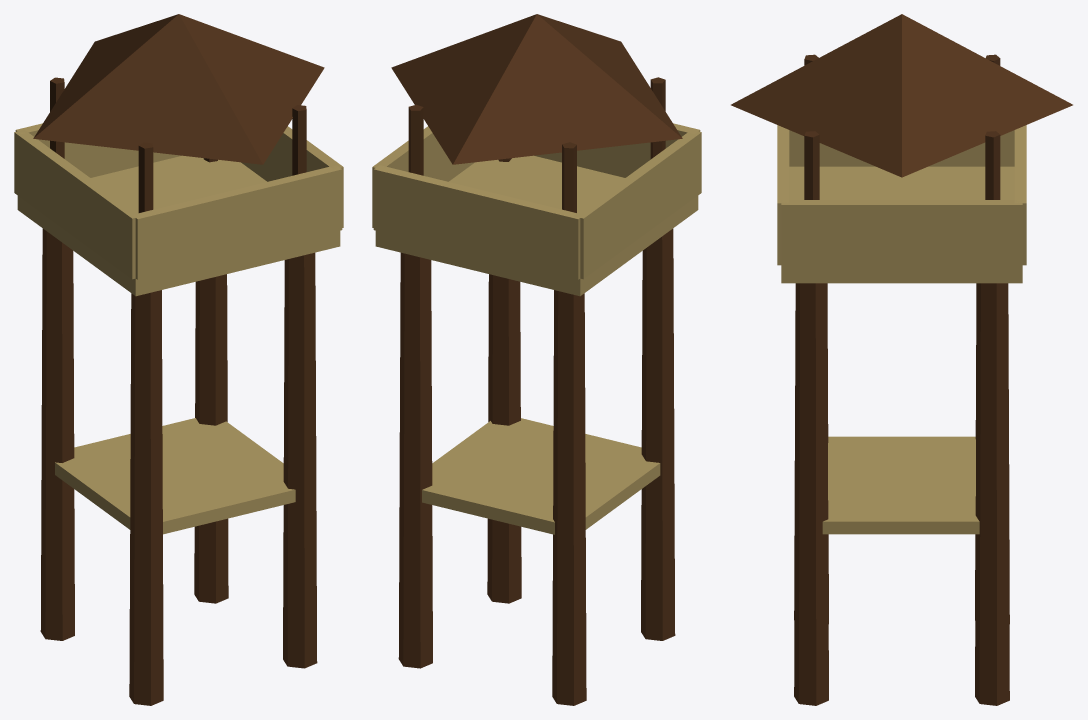
The model's file is elephant_tower_broken.glb.
3 renders of one model, left to right at view 1: azimuth 30°, elevation 25°; view 2: azimuth 150°, elevation 25°; view 3: azimuth 270°, elevation 25°, orthographic. The views are drawn at different scales.
Parts seen in each view (by area): view 1: elephant_tower_piece0, elephant_tower_piece8, elephant_tower_piece2, elephant_tower_piece6, elephant_tower_piece4, elephant_tower_piece1, elephant_tower_piece3, elephant_tower_piece7, elephant_tower_piece12, elephant_tower_piece9, elephant_tower_piece10, elephant_tower_piece11; view 2: elephant_tower_piece4, elephant_tower_piece6, elephant_tower_piece1, elephant_tower_piece0, elephant_tower_piece7, elephant_tower_piece2, elephant_tower_piece12, elephant_tower_piece10, elephant_tower_piece8, elephant_tower_piece3, elephant_tower_piece9, elephant_tower_piece11 (+1 smaller); view 3: elephant_tower_piece4, elephant_tower_piece2, elephant_tower_piece7, elephant_tower_piece6, elephant_tower_piece8, elephant_tower_piece1, elephant_tower_piece3, elephant_tower_piece0, elephant_tower_piece12, elephant_tower_piece11, elephant_tower_piece10.
Boxes of the visible parts, left/top/right/bottom form: elephant_tower_piece0: left=33, top=60, right=215, bottom=545; elephant_tower_piece8: left=185, top=41, right=338, bottom=284; elephant_tower_piece2: left=212, top=159, right=343, bottom=668; elephant_tower_piece6: left=40, top=361, right=234, bottom=640; elephant_tower_piece4: left=42, top=29, right=324, bottom=319; elephant_tower_piece1: left=14, top=16, right=284, bottom=501; elephant_tower_piece3: left=46, top=205, right=220, bottom=701; elephant_tower_piece7: left=42, top=274, right=283, bottom=470; elephant_tower_piece12: left=35, top=14, right=221, bottom=249; elephant_tower_piece9: left=131, top=461, right=212, bottom=705; elephant_tower_piece10: left=90, top=488, right=150, bottom=699; elephant_tower_piece11: left=277, top=83, right=331, bottom=171; elephant_tower_piece4: left=372, top=35, right=575, bottom=380; elephant_tower_piece6: left=398, top=430, right=586, bottom=705; elephant_tower_piece1: left=480, top=21, right=619, bottom=506; elephant_tower_piece0: left=563, top=22, right=701, bottom=460; elephant_tower_piece7: left=399, top=294, right=584, bottom=491; elephant_tower_piece2: left=482, top=157, right=601, bottom=603; elephant_tower_piece12: left=518, top=14, right=636, bottom=460; elephant_tower_piece10: left=606, top=433, right=674, bottom=640; elephant_tower_piece8: left=520, top=26, right=637, bottom=199; elephant_tower_piece3: left=513, top=195, right=659, bottom=640; elephant_tower_piece9: left=602, top=437, right=675, bottom=638; elephant_tower_piece11: left=473, top=159, right=524, bottom=180; elephant_tower_piece4: left=828, top=62, right=1072, bottom=336; elephant_tower_piece2: left=777, top=198, right=877, bottom=705; elephant_tower_piece7: left=840, top=288, right=1008, bottom=534; elephant_tower_piece6: left=940, top=348, right=1009, bottom=705; elephant_tower_piece8: left=731, top=52, right=885, bottom=201; elephant_tower_piece1: left=844, top=22, right=1026, bottom=442; elephant_tower_piece3: left=828, top=313, right=976, bottom=623; elephant_tower_piece0: left=777, top=42, right=893, bottom=453; elephant_tower_piece12: left=839, top=14, right=963, bottom=454; elephant_tower_piece11: left=801, top=123, right=854, bottom=267; elephant_tower_piece10: left=828, top=428, right=907, bottom=555.
Size of the model in its own units: 1.71 by 3.55 by 1.71.
